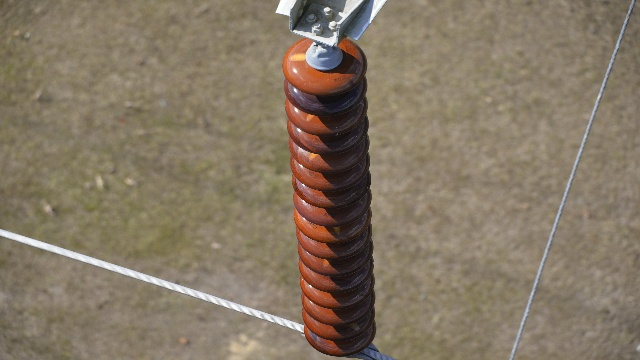insulator_unspecified: (282, 34, 376, 354)
pollution_flashover_local: (289, 52, 308, 63), (308, 151, 321, 162), (305, 112, 316, 122), (322, 258, 330, 268), (334, 225, 341, 234)
